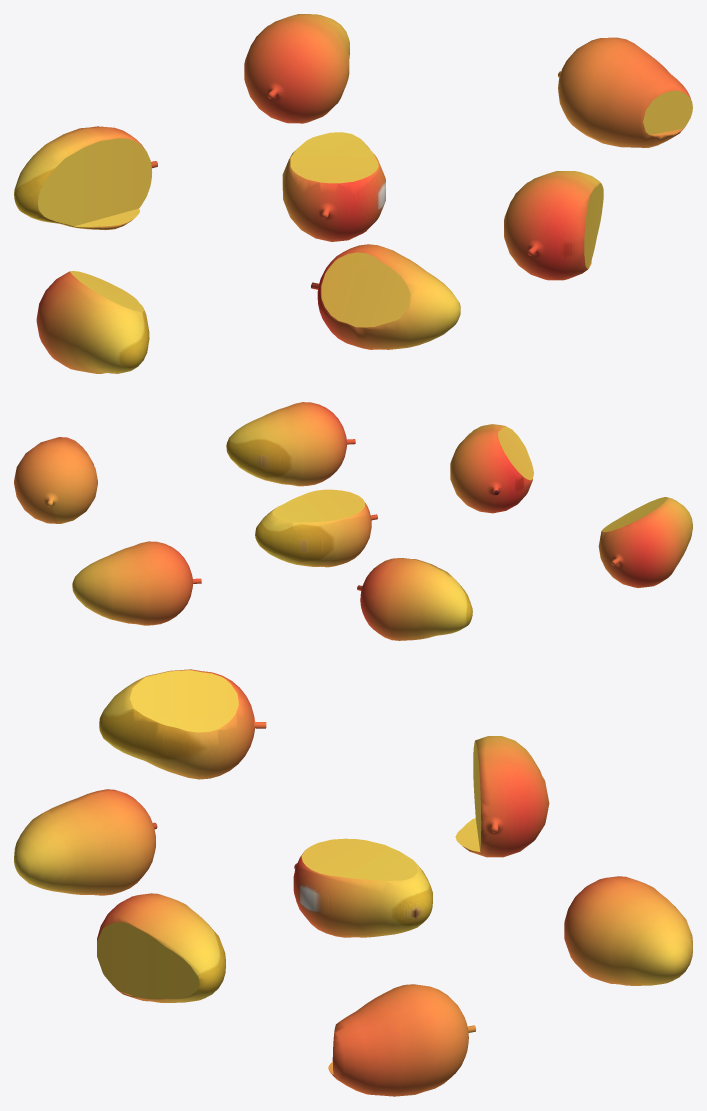
File: Mangas.dae
The picture shows the model from 3 angles, top to bottom: view 1: azimuth 30°, elevation 25°; view 2: azimuth 150°, elevation 25°; view 3: azimuth 270°, elevation 25°; orthographic projection. The views are drawn at different scales.
Visible parts, largest first — view 1: Sphere; view 2: Sphere; view 3: Sphere.
Part boxes in pixels (<box>): Sphere: <box>14,14,692,373</box>; Sphere: <box>14,402,692,640</box>; Sphere: <box>14,669,692,1096</box>.
Size of the model in its own units: 6.75 by 5.33 by 0.8656.
Materials: 1 (1 with a texture image).
